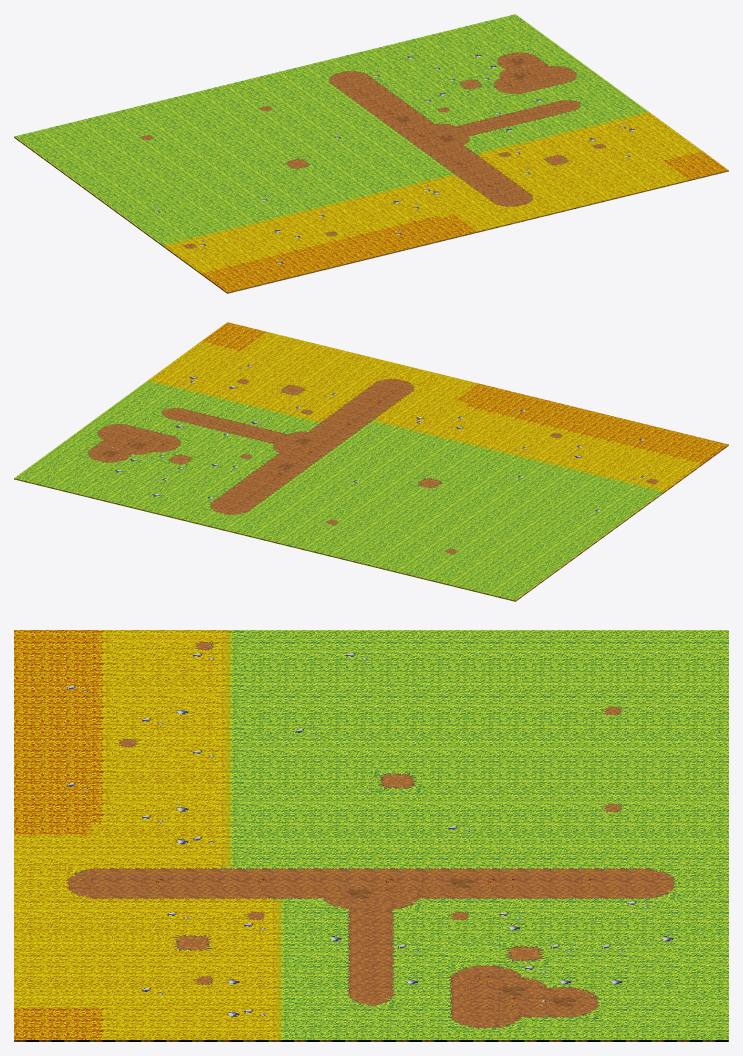
The model's file is OutsideHunt.fbx.
3 renders of one model, top to bottom at view 1: azimuth 30°, elevation 25°; view 2: azimuth 150°, elevation 25°; view 3: azimuth 270°, elevation 25°, orthographic. The views are drawn at different scales.
Visible parts, largest first — view 1: Cube.2996; view 2: Cube.2996; view 3: Cube.2996.
Boxes of the visible parts, x1,y1,x2,y2 form: Cube.2996: (14, 14, 728, 293); Cube.2996: (14, 322, 728, 601); Cube.2996: (14, 630, 728, 1041).
Bounding box in the file's own units: 3800 × 8.16 × 2800.
Materials: 1071 (1071 with a texture image).
